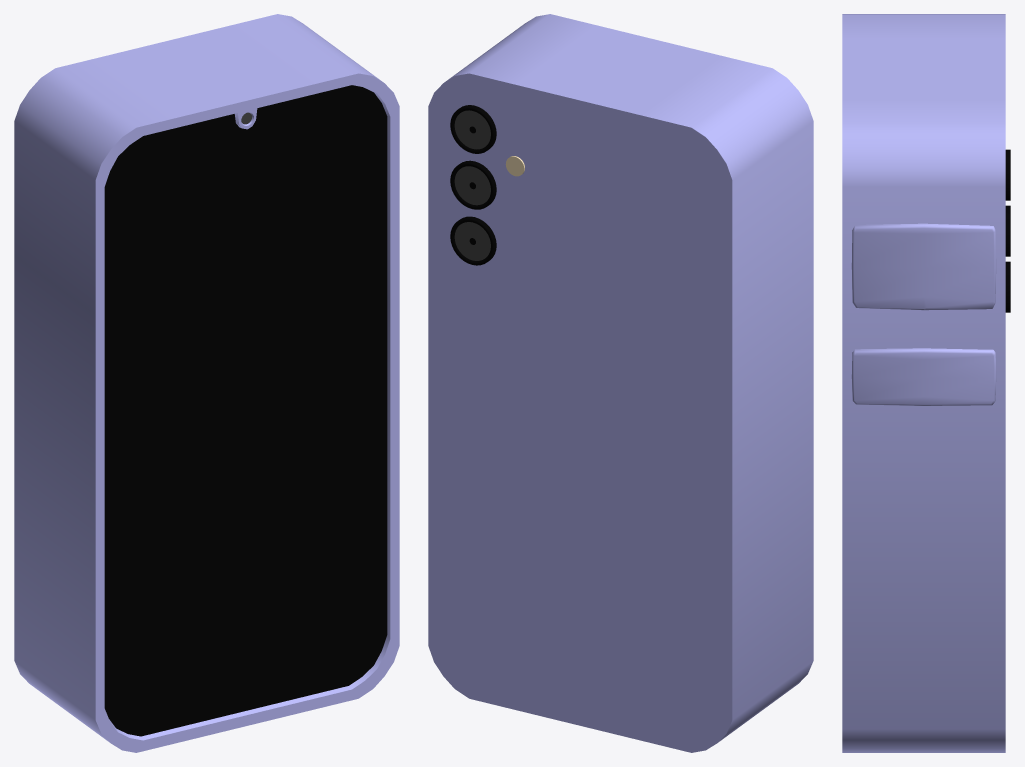
File: Reject18.fbx
3 views of the same model, side by side, from view 1: azimuth 30°, elevation 25°; view 2: azimuth 150°, elevation 25°; view 3: azimuth 270°, elevation 25° (orthographic).
Parts seen in each view (by area): view 1: reject.017; view 2: reject.017; view 3: reject.017.
Part boxes in pixels (box(x1,y1,x2,y2)): reject.017: box(14, 14, 399, 752); reject.017: box(428, 14, 813, 752); reject.017: box(842, 14, 1010, 752).
Bounding box in the file's own units: 1.13 × 2.18 × 0.5292.
